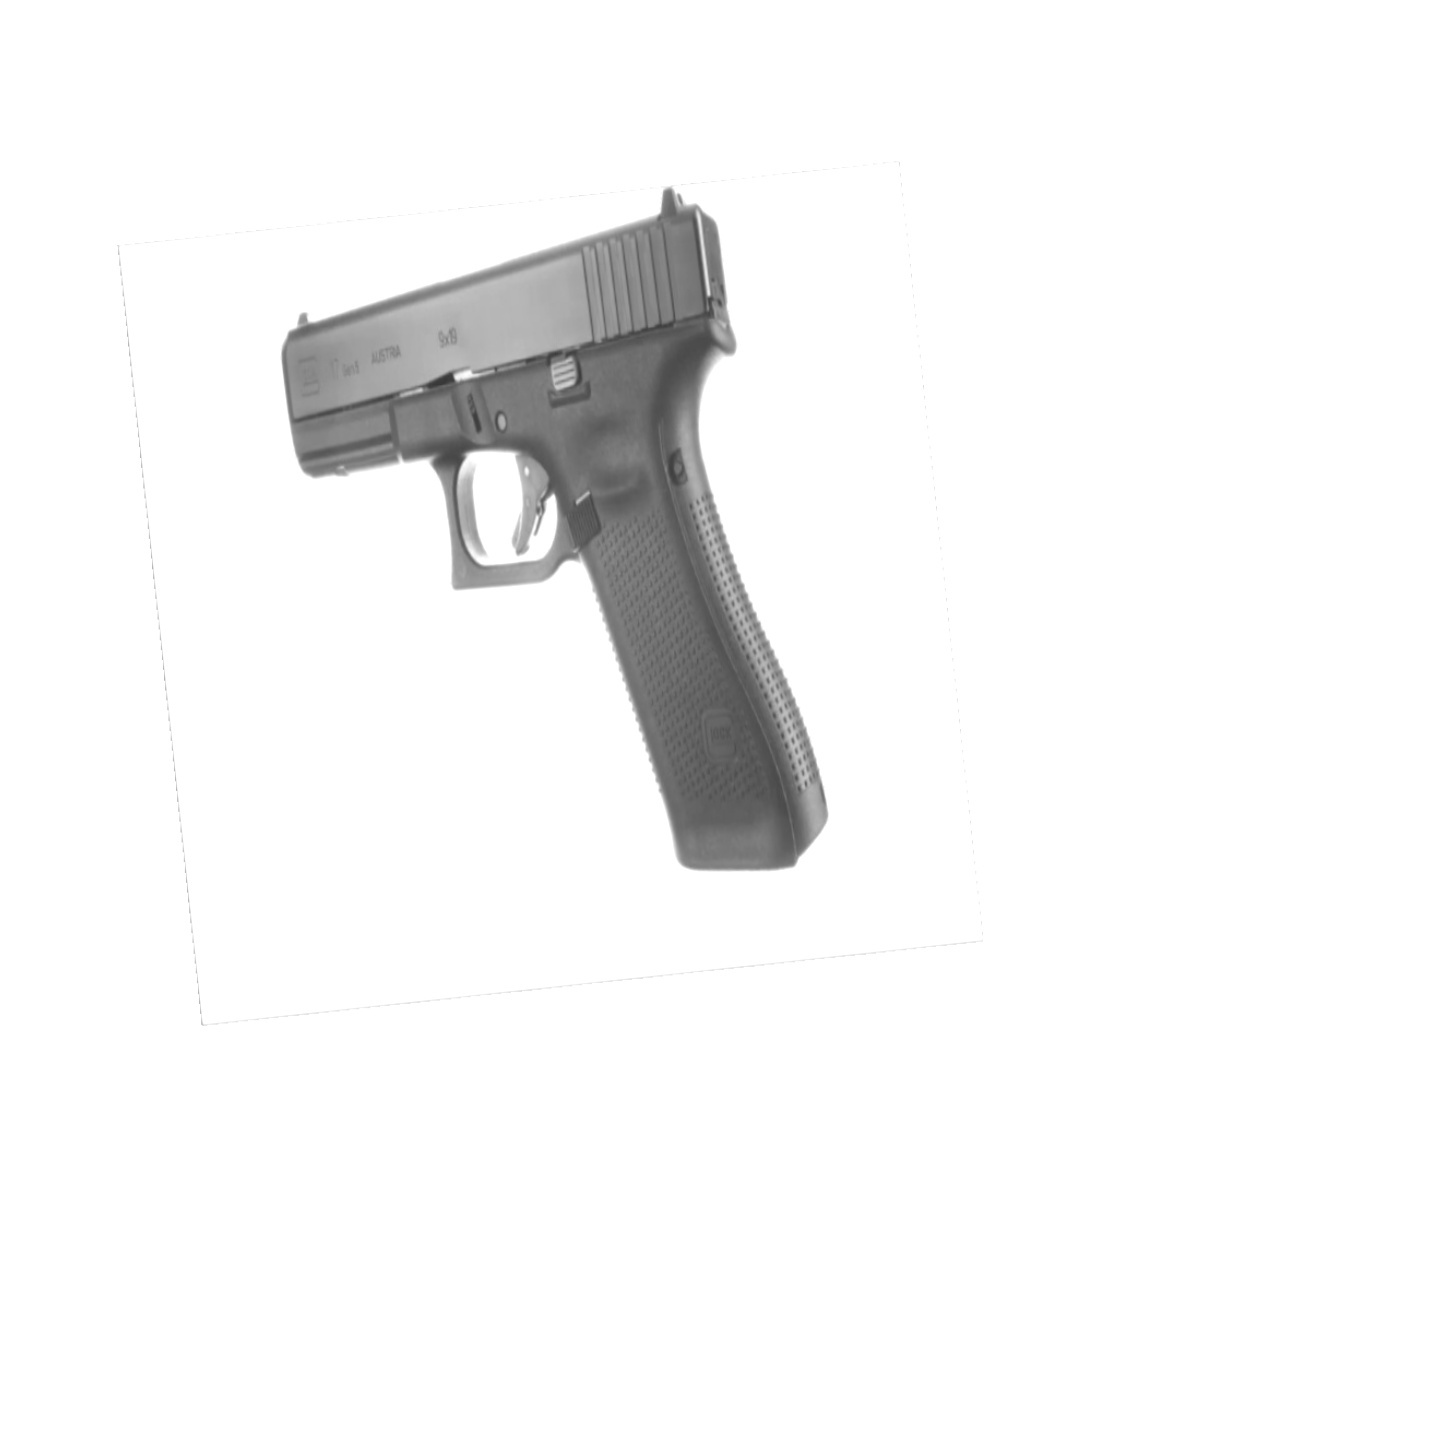gun: (277, 180, 834, 882)
